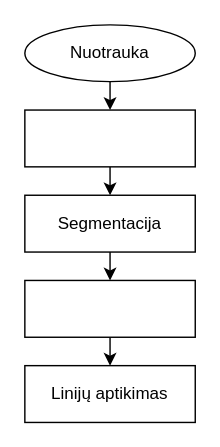
Some shapes in this 220 by 447 pixel diagram are drawn without their labels. The shapes that lost their labels are listed below. From the top down, each one's centre as x and y in pixels, then its label:
(109,138): RGB konvertavimas į HSV
(109,308): Morfologinės operacijos
